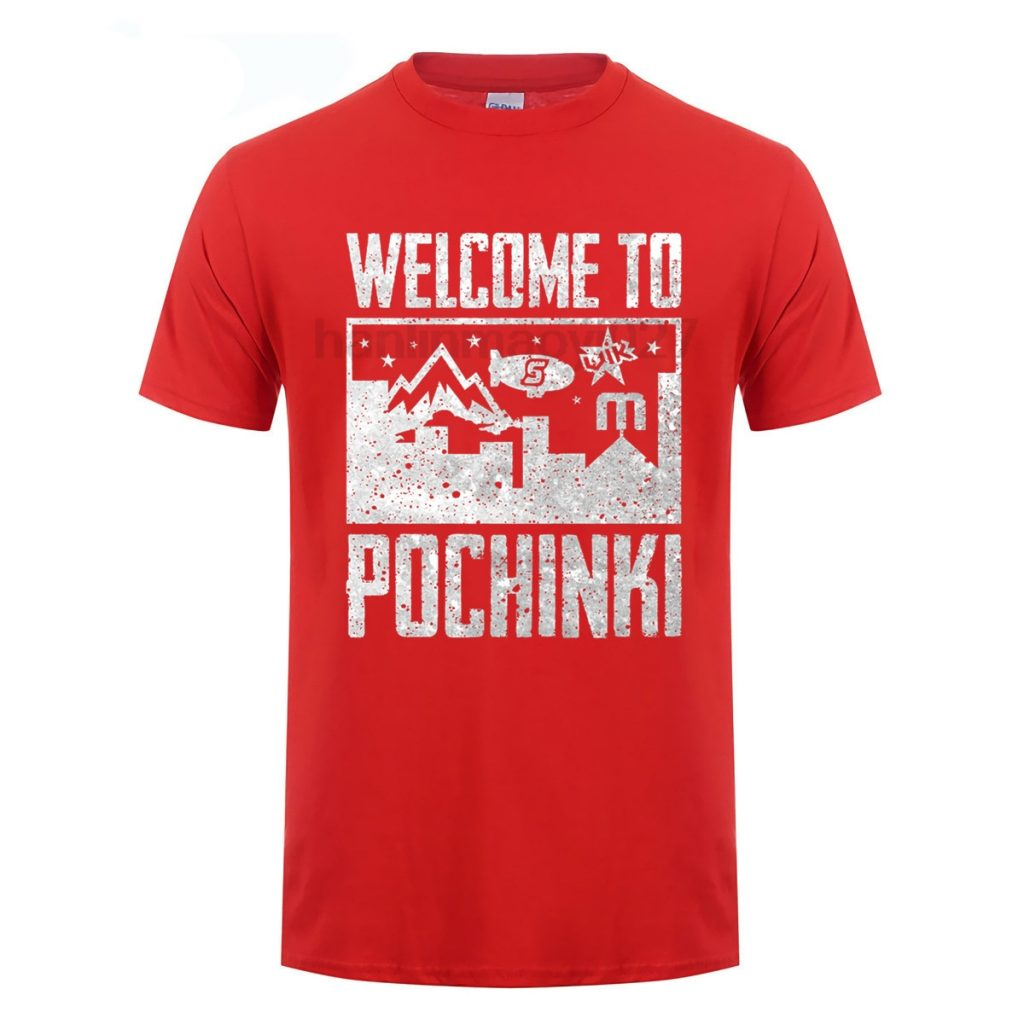T-Shirt: (130, 38, 894, 993)
